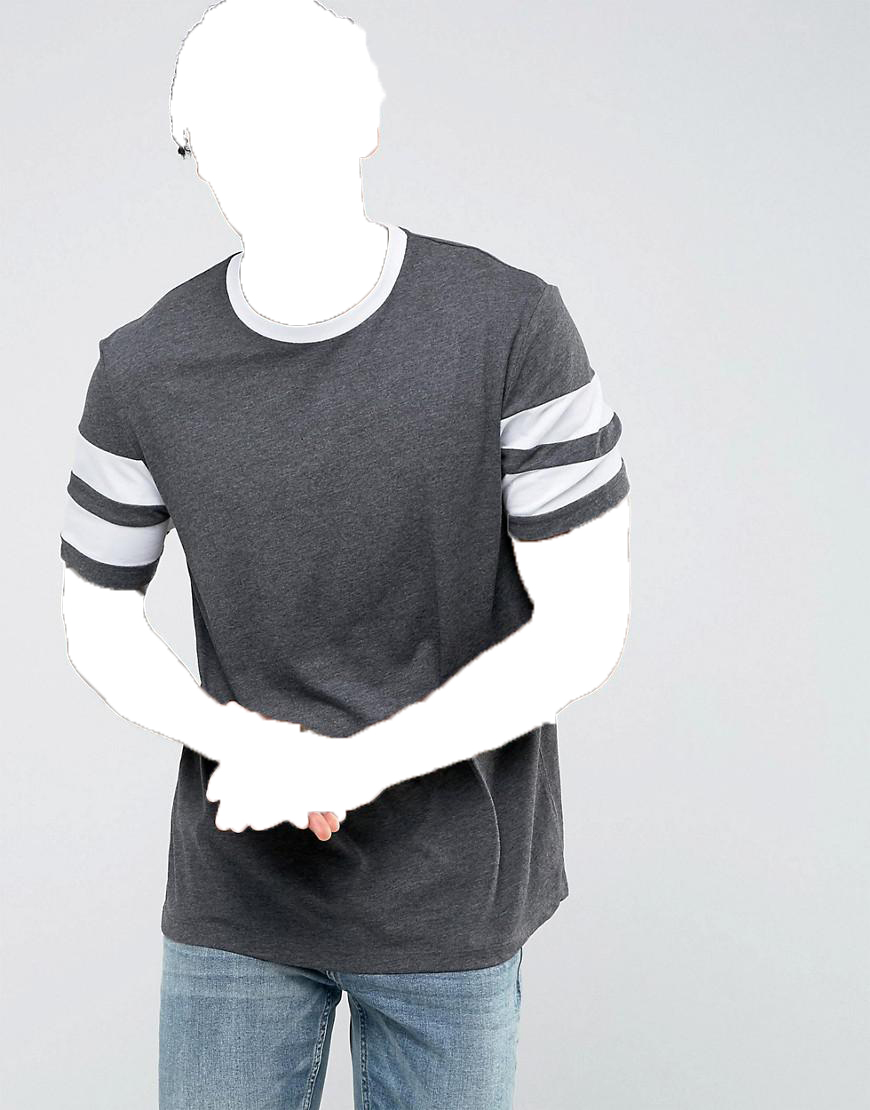teeshirt: (47, 232, 629, 990)
